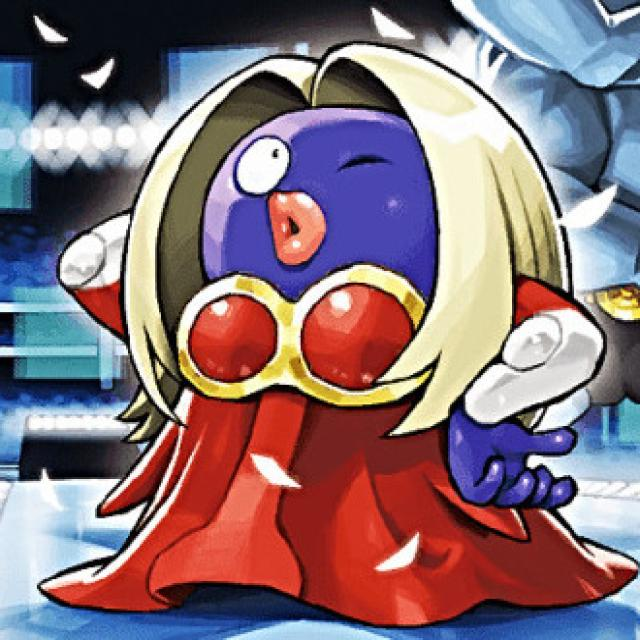Jynx: (58, 61, 584, 626)
